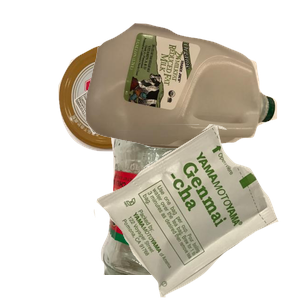glass: (98, 120, 286, 300)
metal: (56, 43, 211, 187)
plastic: (83, 21, 300, 162)
trash: (91, 124, 300, 300)
